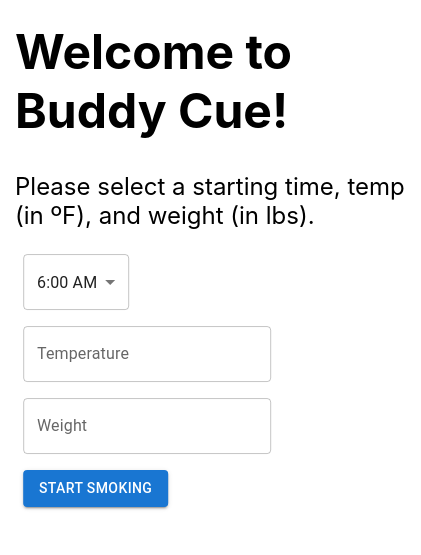
Test case: InitEntryForm › displays error messages for when no values are inputted
What coordinates should you click on to do the following:
click the button "START SMOKING"
I would click on:
 (96, 489)
Its box is [23,470,168,507].
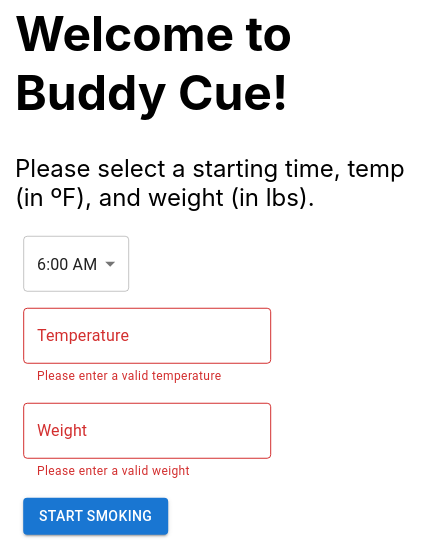
expect the text "Please enter a valid temperature" is shown: met, box [37,369,222,383]
expect the text "Please enter a valid weight" is shown: met, box [37,464,190,478]
